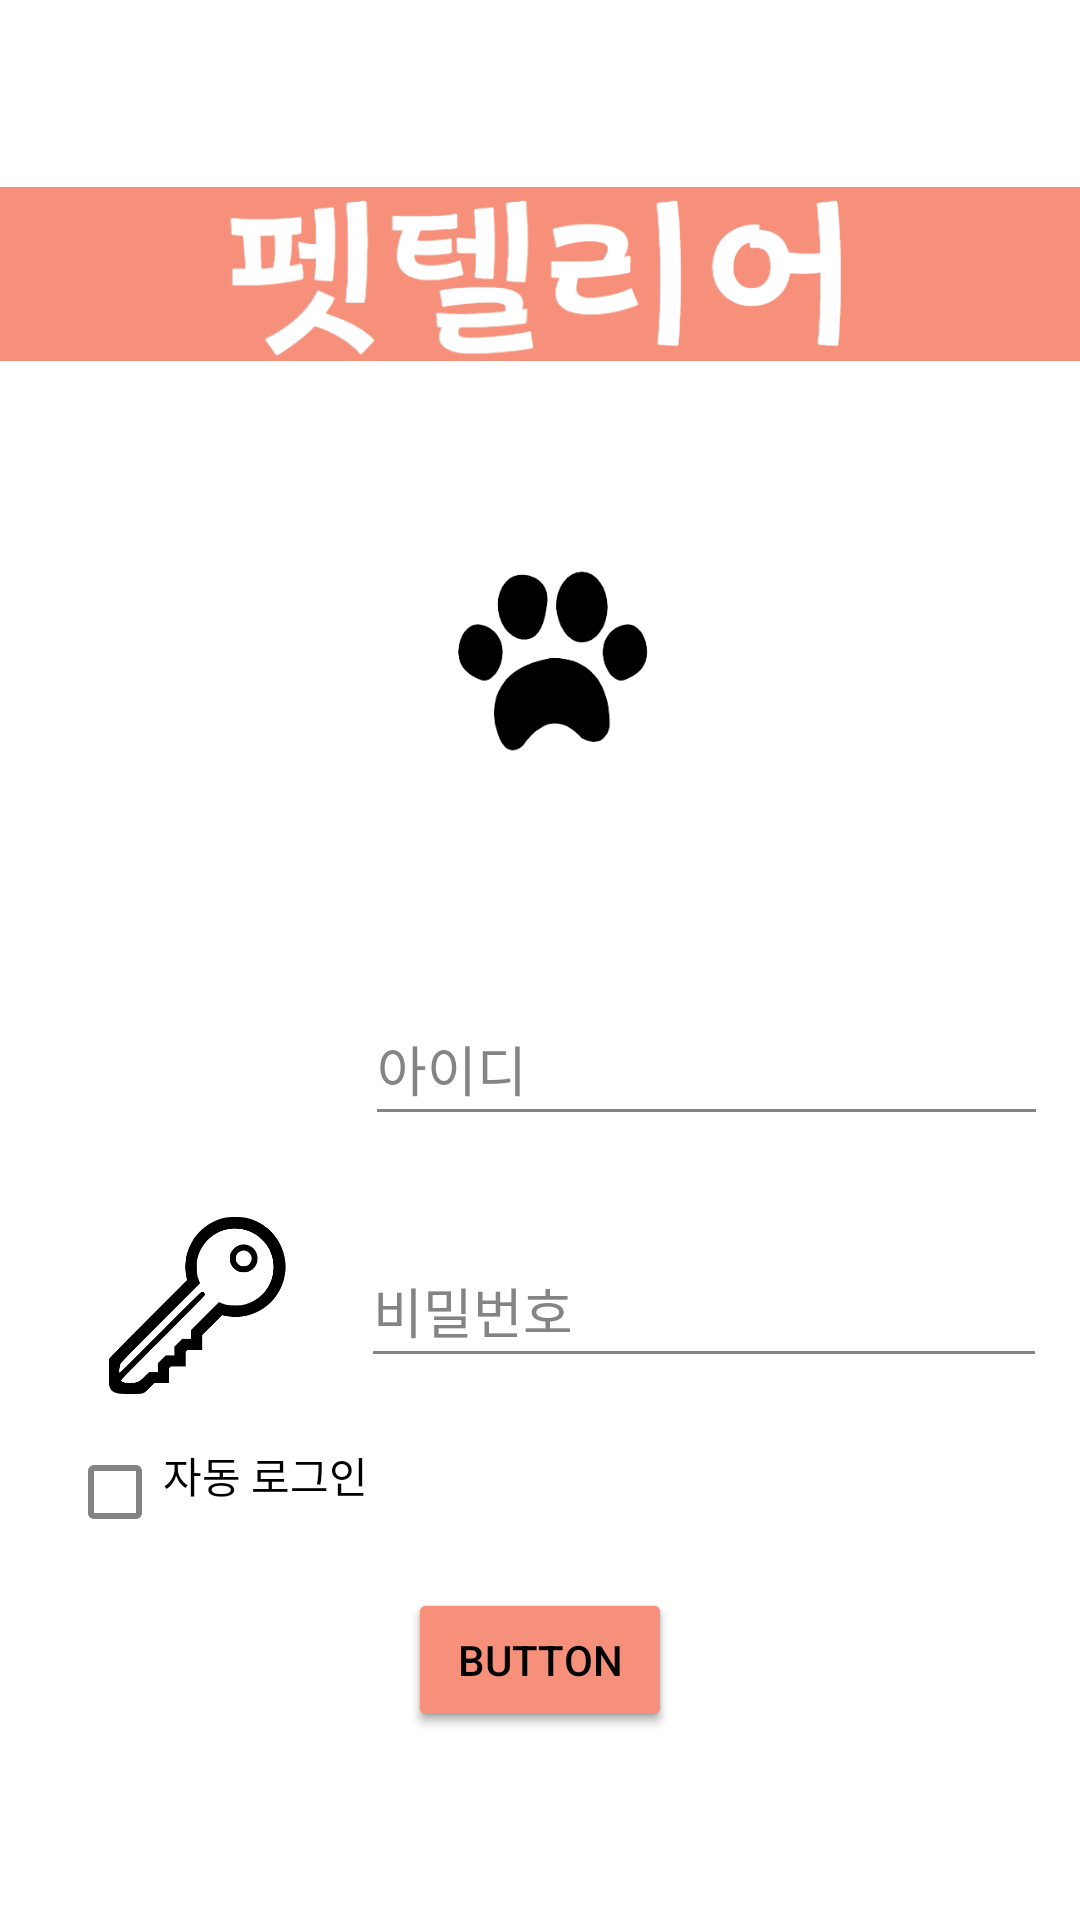

Screen size 1080*1920. Icon name, then its box in pixels as [x1,y1,x2,y2]:
balbadak: [458,571,648,751]
key: [109,1217,286,1394]
